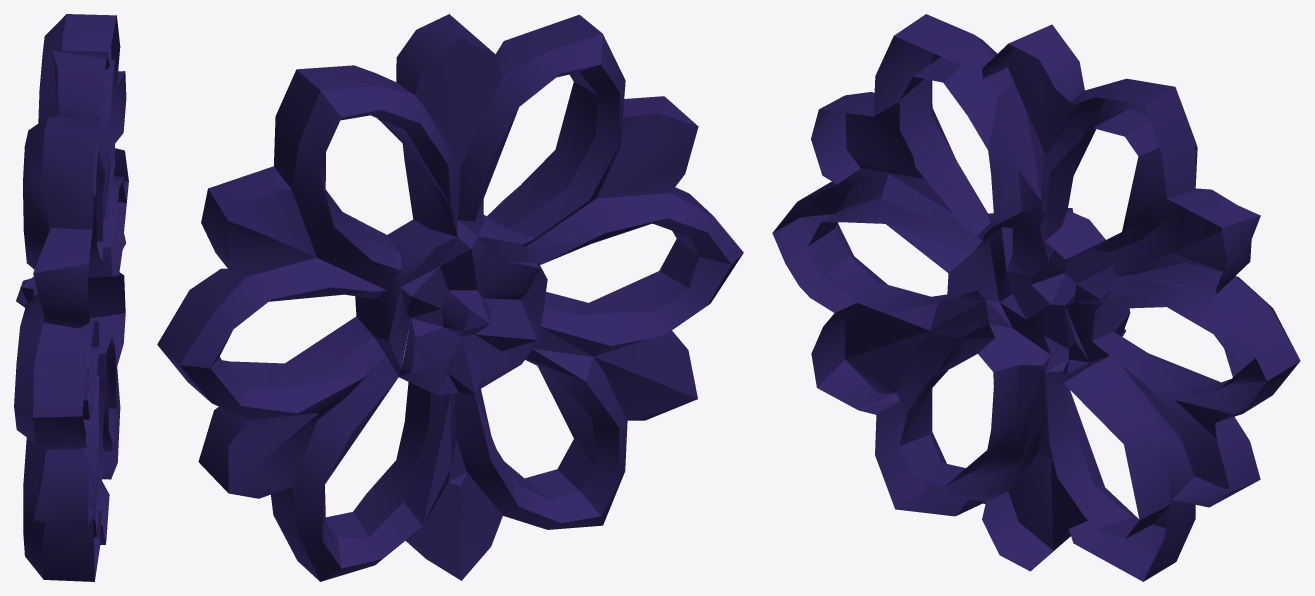
3 views of the same model, side by side, from view 1: azimuth 30°, elevation 25°; view 2: azimuth 150°, elevation 25°; view 3: azimuth 270°, elevation 25° (orthographic). The views are drawn at different scales.
Visible parts, largest first — view 1: SM_gateSQwall002; view 2: SM_gateSQwall002; view 3: SM_gateSQwall002.
Boxes of the visible parts, left/top/right/bottom form: SM_gateSQwall002: left=14, top=14, right=128, bottom=581; SM_gateSQwall002: left=157, top=14, right=743, bottom=581; SM_gateSQwall002: left=772, top=14, right=1300, bottom=581.
Size of the model in its own units: 26.78 by 39.65 by 36.11.
